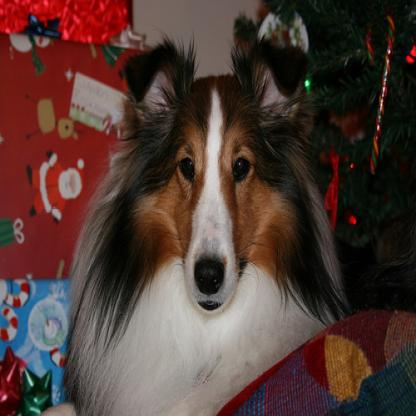Shetland_sheepdog: (60, 26, 348, 414)
